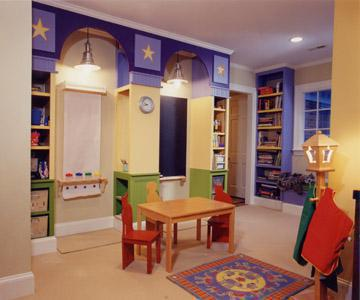Otro Obstaculo: (299, 138, 346, 296)
